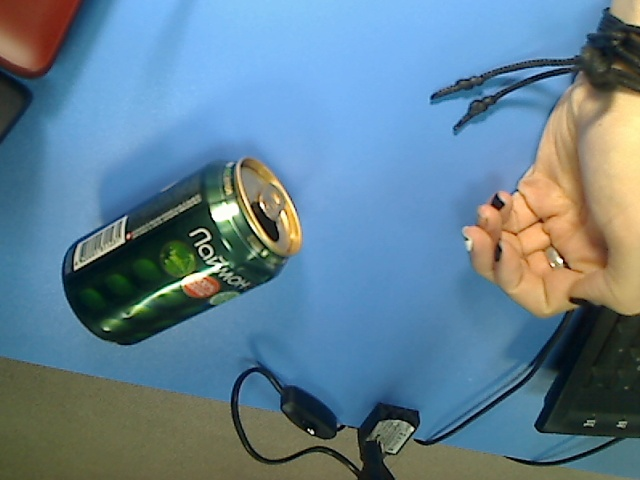can: (60, 155, 313, 348)
